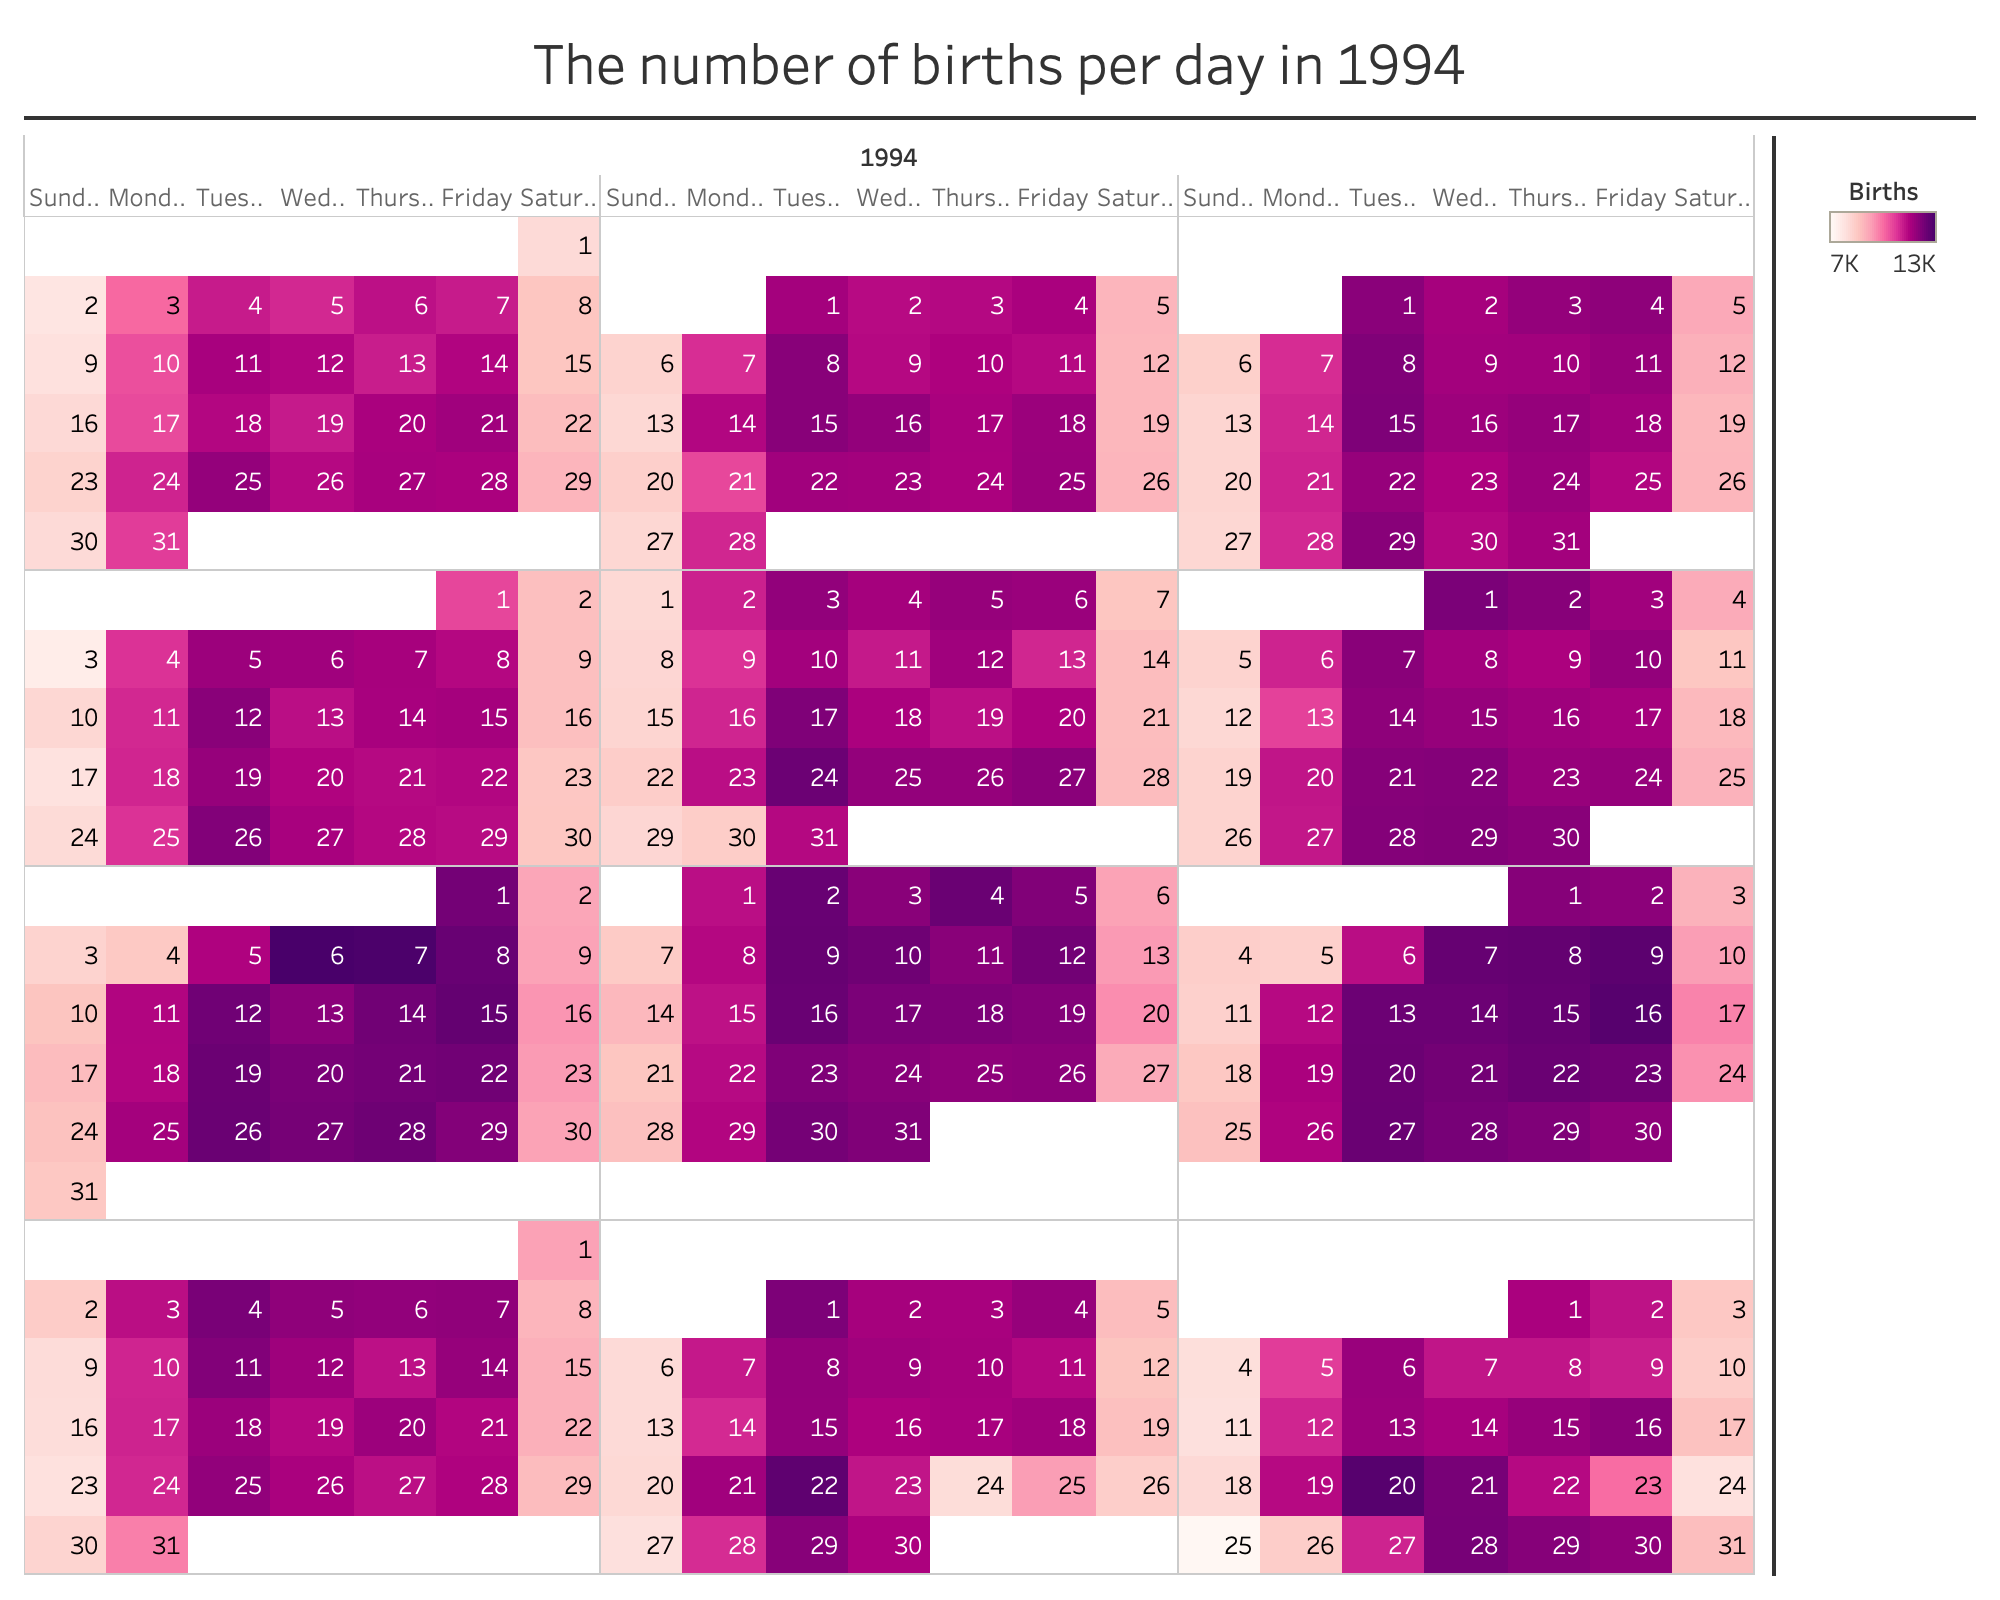

The dashboard page shown, as its layout file describes it:
{"tool":"tableau","page":{"name":"Dashboard 2","canvas":[1000,800],"ordinal":1},"visuals":[{"type":"text","box":[8,8,984,46]},{"type":"blank","box":[8,54,984,10]},{"type":"worksheet","title":"Sheet 5","mark":"Square","rows":["Calculation_2747125412470480896","Calculation_1133499765468467201"],"cols":["Calculation_2747125412470480896","Calculation_1133499765467926528","Calculation_2747125412470480896"],"box":[8,64,873.8,728]},{"type":"blank","box":[881.8,64,10,728]},{"type":"legend","title":"Sheet 5","param":"[federated.0r31ddu1yh3vqr19c6o080veb8aa].[sum:births:qk]","box":[891.8,64,100,728]}]}

Visuals, with their boxes in screenshot pixels (x1, y1, x2, y2), scaled from the page's 1000x800 canvas onto the 2000x1600 screenshot:
text: [16, 16, 1984, 108]
blank: [16, 108, 1984, 128]
"Sheet 5" worksheet (Square marks): [16, 128, 1764, 1584]
blank: [1764, 128, 1784, 1584]
"Sheet 5" legend: [1784, 128, 1984, 1584]
